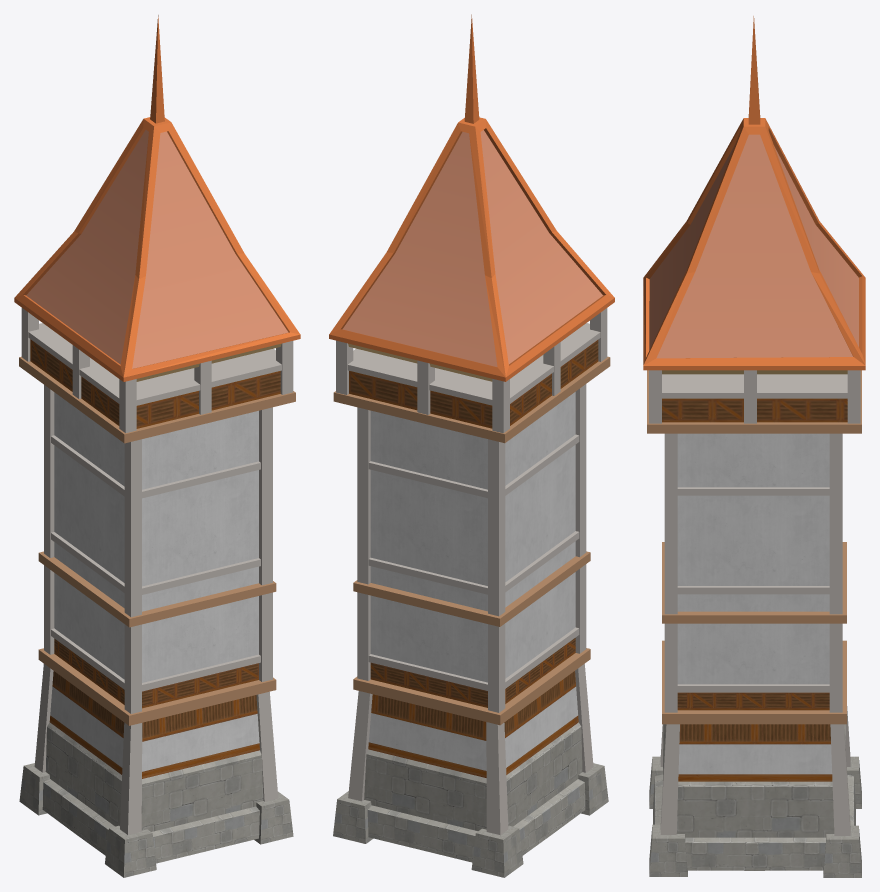
Rendered from Building_B_02.fbx.
The picture shows the model from 3 angles, left to right: view 1: azimuth 30°, elevation 25°; view 2: azimuth 150°, elevation 25°; view 3: azimuth 270°, elevation 25°; orthographic projection. The views are drawn at different scales.
Parts seen in each view (by area): view 1: Building_B_02; view 2: Building_B_02; view 3: Building_B_02.
Boxes of the visible parts, x1,y1,x2,y2 form: Building_B_02: (14, 15, 300, 877); Building_B_02: (329, 14, 614, 877); Building_B_02: (643, 16, 865, 877).
Size of the model in its own units: 767 by 3338 by 820.
